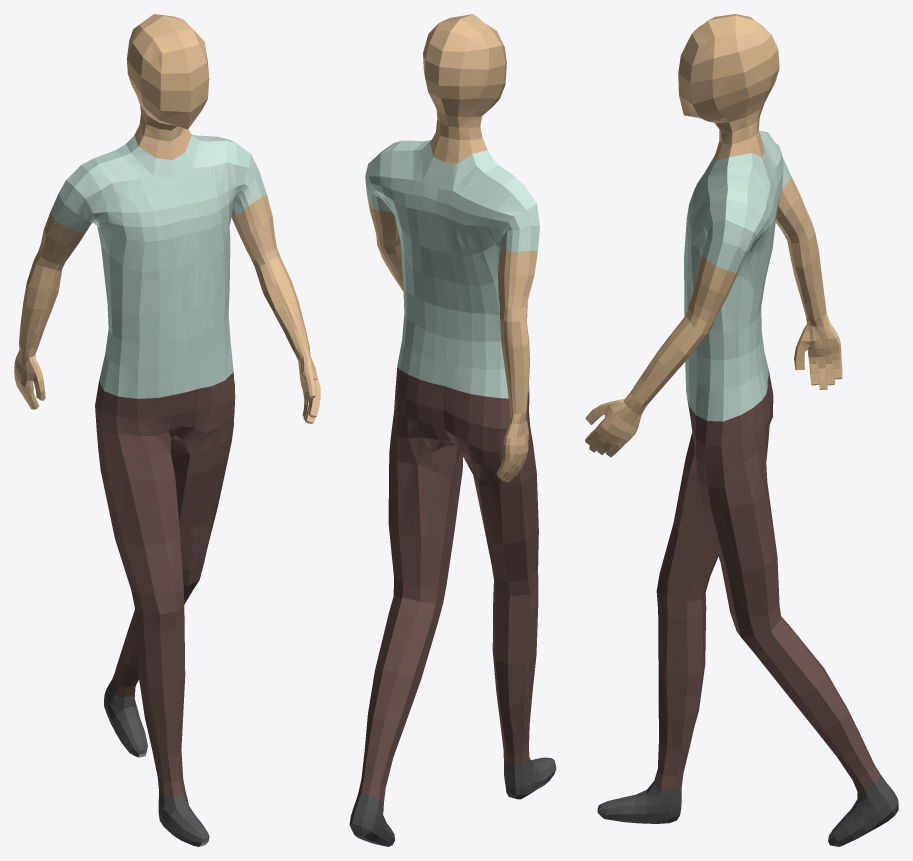
File: Man_0.glb
3 renders of one model, left to right at view 1: azimuth 30°, elevation 25°; view 2: azimuth 150°, elevation 25°; view 3: azimuth 270°, elevation 25°, orthographic. The views are drawn at different scales.
Parts seen in each view (by area): view 1: Man; view 2: Man; view 3: Man.
Boxes of the visible parts, bbox=[...] form: Man: bbox=[14, 14, 320, 846]; Man: bbox=[349, 14, 556, 846]; Man: bbox=[585, 14, 898, 846].
Size of the model in its own units: 2.8 by 10.22 by 3.55.
